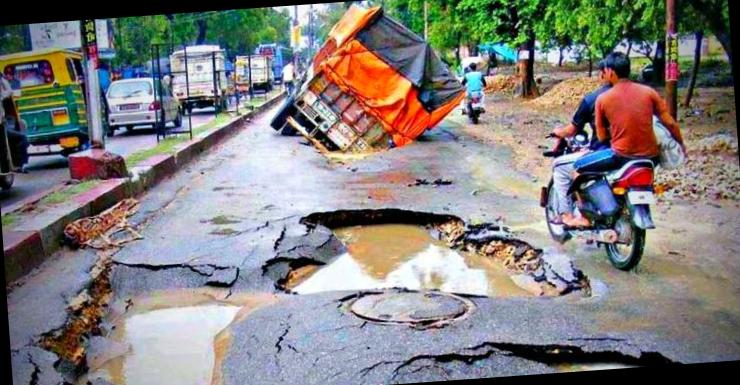pothole: (254, 176, 609, 352), (25, 253, 266, 385), (394, 320, 732, 384)
